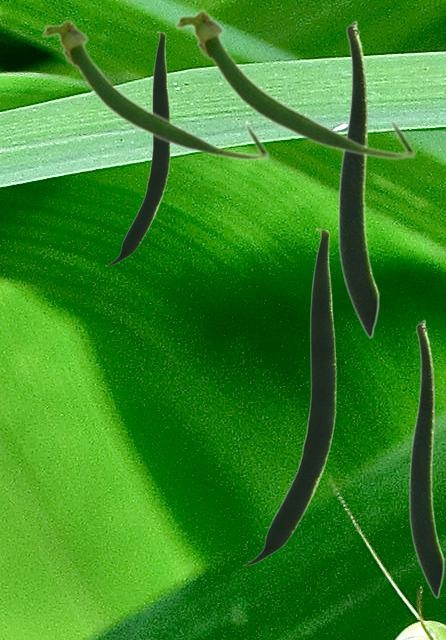french_bean: (173, 7, 416, 160), (40, 17, 269, 161), (242, 228, 335, 565), (105, 31, 169, 265), (337, 20, 379, 338), (408, 319, 444, 598)
